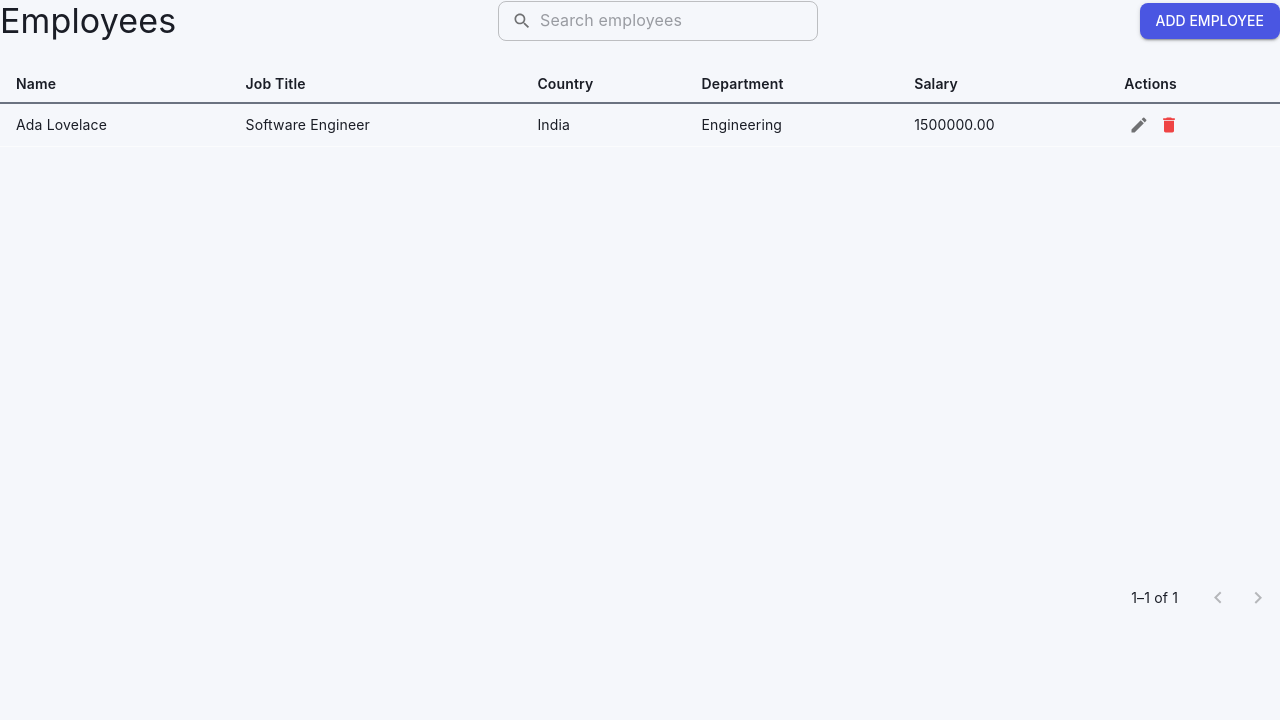
Scenario: EmployeesPage › opens add employee dialog when Add Employee is clicked
Expected: the text "Ada Lovelace" is shown, [0,103,230,146]
Click the button "Add Employee" at [1210, 21], box [1140,3,1279,39]
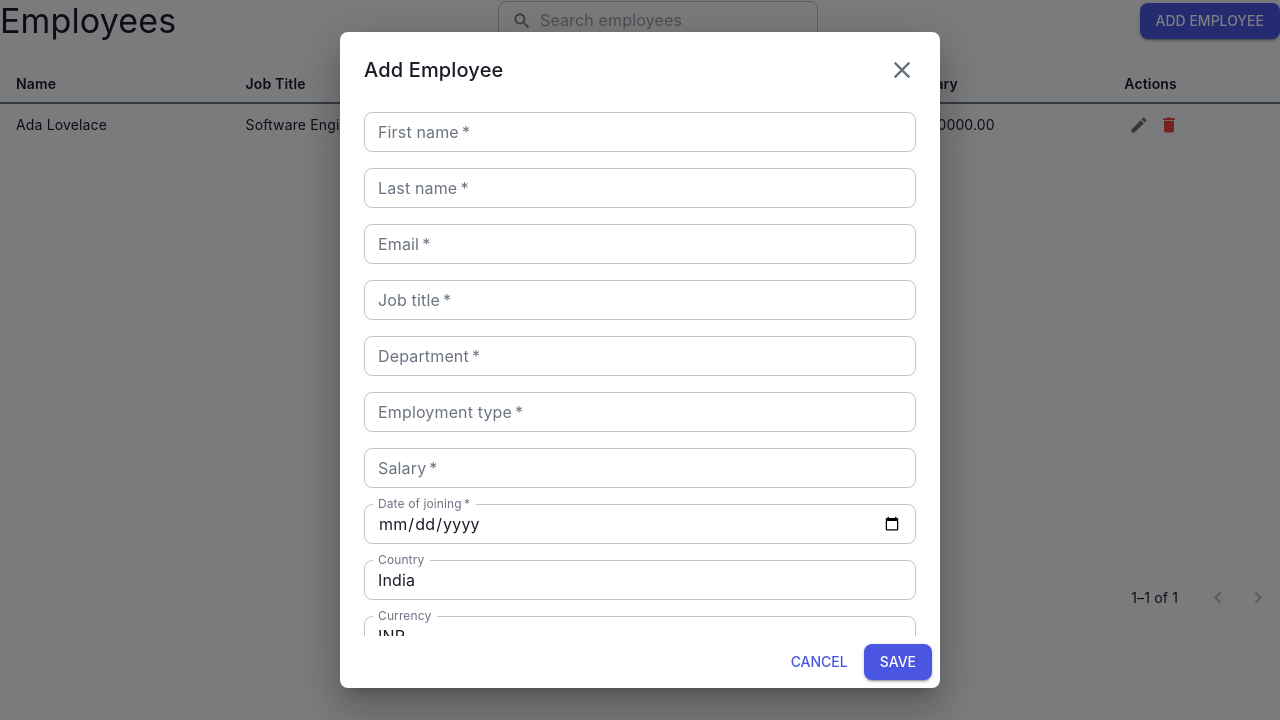
Now the dialog "Add Employee" is shown, box [340,32,940,688]
